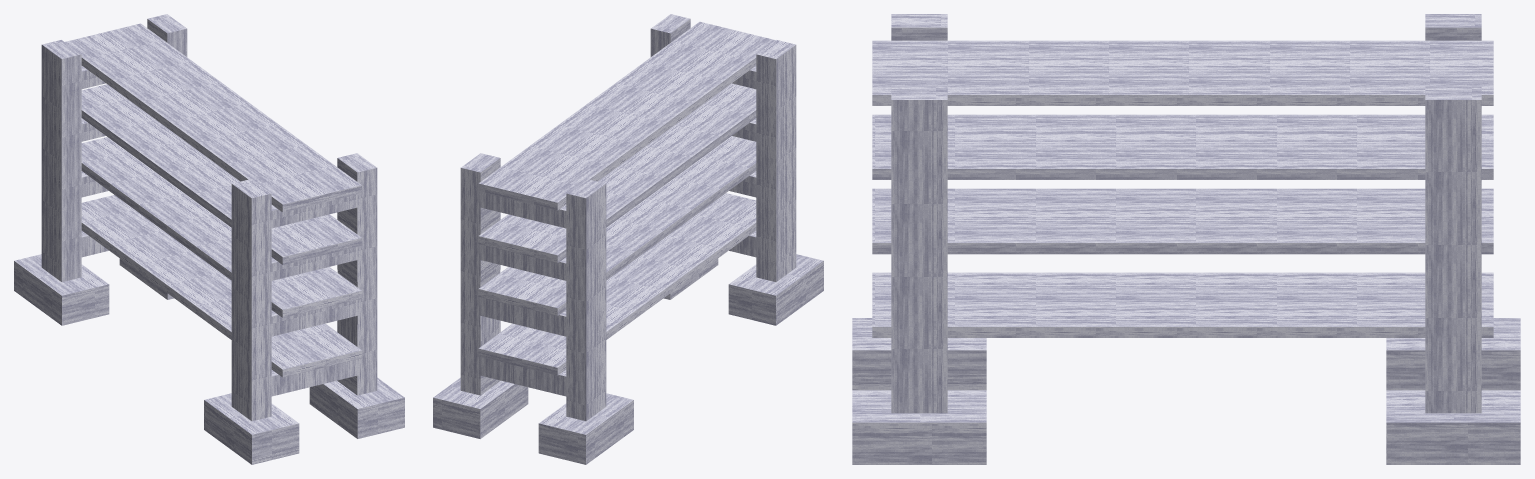
The model's file is metal_shelf.glb.
3 renders of one model, left to right at view 1: azimuth 30°, elevation 25°; view 2: azimuth 150°, elevation 25°; view 3: azimuth 270°, elevation 25°, orthographic. The views are drawn at different scales.
Visible parts, largest first — view 1: metalLeft, topShelf, metalRight, bottomShelf, middleShelf, nearTopShelf; view 2: metalRight, topShelf, metalLeft, bottomShelf, middleShelf, nearTopShelf; view 3: topShelf, middleShelf, bottomShelf, nearTopShelf, metalRight, metalLeft.
Boxes of the visible parts, x1=… form: metalLeft: x1=204, y1=153, x2=404, y2=464; topShelf: x1=65, y1=23, x2=361, y2=212; metalRight: x1=14, y1=14, x2=187, y2=325; bottomShelf: x1=81, y1=195, x2=361, y2=377; middleShelf: x1=81, y1=137, x2=361, y2=317; nearTopShelf: x1=81, y1=84, x2=361, y2=264; metalRight: x1=433, y1=153, x2=633, y2=464; topShelf: x1=478, y1=21, x2=775, y2=210; metalLeft: x1=650, y1=14, x2=823, y2=325; bottomShelf: x1=478, y1=193, x2=756, y2=375; middleShelf: x1=478, y1=136, x2=756, y2=315; nearTopShelf: x1=478, y1=83, x2=756, y2=263; topShelf: x1=872, y1=40, x2=1493, y2=105; middleShelf: x1=872, y1=188, x2=1493, y2=254; bottomShelf: x1=872, y1=272, x2=1493, y2=337; nearTopShelf: x1=872, y1=114, x2=1493, y2=179; metalRight: x1=1386, y1=14, x2=1520, y2=464; metalLeft: x1=852, y1=14, x2=986, y2=464.
Size of the model in its own units: 2.16 by 3.42 by 5.82.
Materials: 1 (1 with a texture image).
